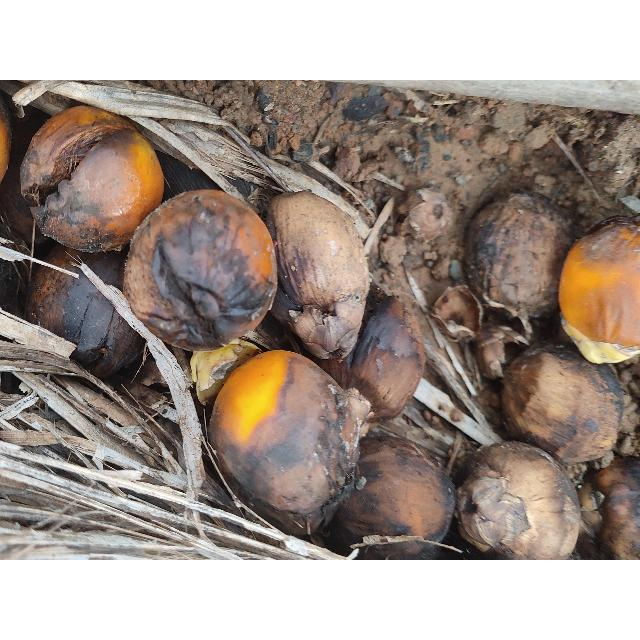damaged: (216, 352, 358, 534), (122, 190, 276, 350), (21, 107, 166, 251), (462, 190, 578, 328), (452, 439, 584, 558), (26, 245, 146, 375), (499, 342, 628, 462), (274, 194, 368, 356), (330, 434, 446, 556), (556, 216, 640, 360), (338, 294, 422, 418), (0, 100, 58, 250), (0, 248, 22, 318)
